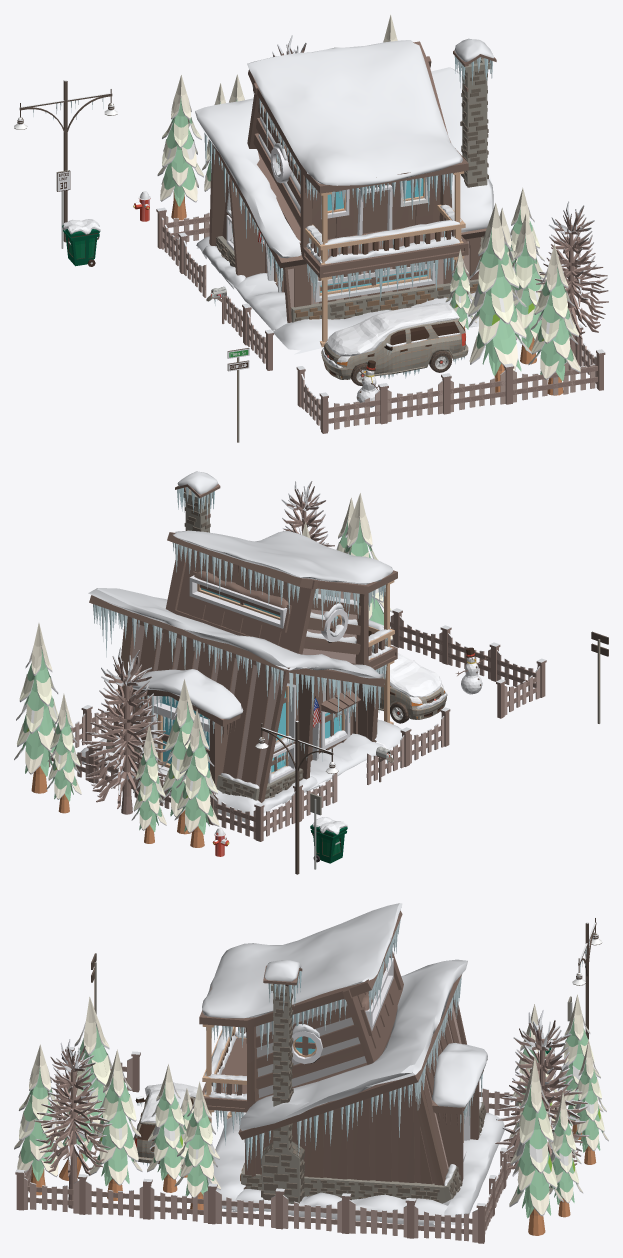
File: casacompleta_lev5.glb
The picture shows the model from 3 angles, top to bottom: view 1: azimuth 30°, elevation 25°; view 2: azimuth 150°, elevation 25°; view 3: azimuth 270°, elevation 25°; orthographic projection. The views are drawn at different scales.
Parts seen in each view (by area): view 1: Cylinder.008, Plane.009, Cube.005, Cylinder_Cylinder.009, Cylinder.002, Cylinder.003, Plane, Plane.002; view 2: Cylinder.008, Plane.009, Cube.005, Cylinder_Cylinder.009, Cylinder.002, Cylinder.003, Plane.002, Plane; view 3: Cylinder.008, Plane.009, Cube.005, Cylinder_Cylinder.009, Cylinder.002.
Part boxes in pixels (left/top/right/bottom): Cylinder.008: left=195, top=38, right=496, bottom=354; Plane.009: left=157, top=14, right=608, bottom=395; Cube.005: left=156, top=207, right=605, bottom=433; Cylinder_Cylinder.009: left=321, top=303, right=468, bottom=385; Cylinder.002: left=14, top=80, right=117, bottom=242; Cylinder.003: left=62, top=219, right=100, bottom=266; Plane: left=227, top=348, right=249, bottom=442; Plane.002: left=356, top=360, right=378, bottom=407; Cylinder.008: left=80, top=471, right=411, bottom=823; Plane.009: left=14, top=481, right=392, bottom=847; Cube.005: left=49, top=608, right=546, bottom=841; Cylinder_Cylinder.009: left=378, top=653, right=447, bottom=723; Cylinder.002: left=255, top=720, right=338, bottom=874; Cylinder.003: left=310, top=817, right=347, bottom=863; Plane.002: left=456, top=647, right=487, bottom=694; Plane: left=591, top=631, right=608, bottom=723; Cylinder.008: left=199, top=903, right=505, bottom=1226; Plane.009: left=14, top=994, right=608, bottom=1235; Cube.005: left=15, top=1046, right=520, bottom=1243; Cylinder_Cylinder.009: left=133, top=1082, right=197, bottom=1166; Cylinder.002: left=572, top=917, right=602, bottom=1039.
Size of the model in its own units: 75.33 by 45.34 by 95.21.
Materials: 1 (1 with a texture image).
